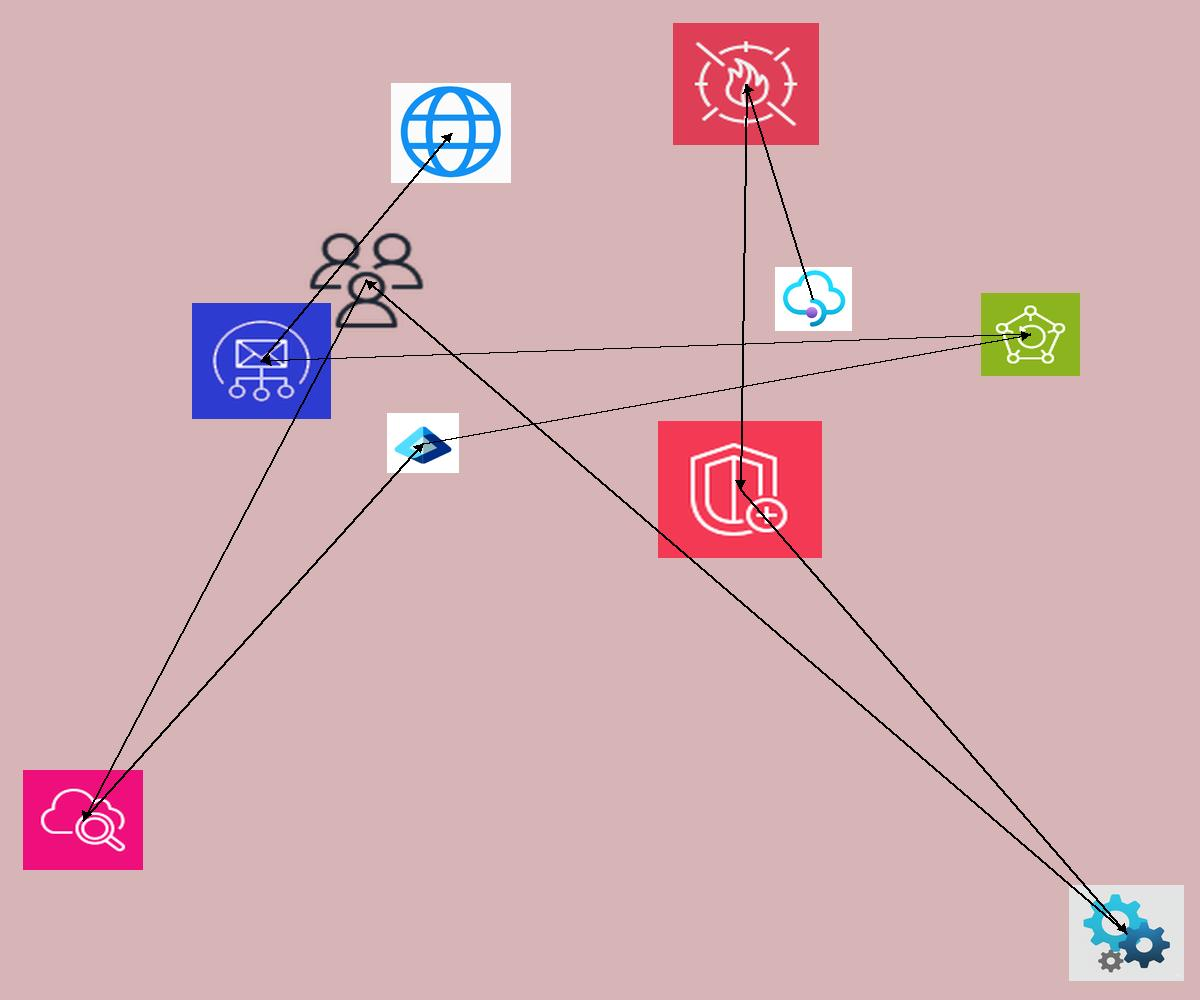AWS-Backup: (981, 293, 1080, 376)
AWS-CloudWatch: (23, 770, 143, 870)
AWS-Res_Users: (305, 229, 428, 332)
AWS-Shield: (658, 421, 822, 558)
AWS-Simple-Email-Service: (192, 303, 331, 419)
AWS-WAF: (673, 23, 819, 145)
Azure_api: (1069, 885, 1184, 981)
Azure_api_gateway: (775, 267, 852, 331)
Azure_http: (391, 83, 511, 183)
Azure_microsoft_entra: (387, 413, 459, 473)
